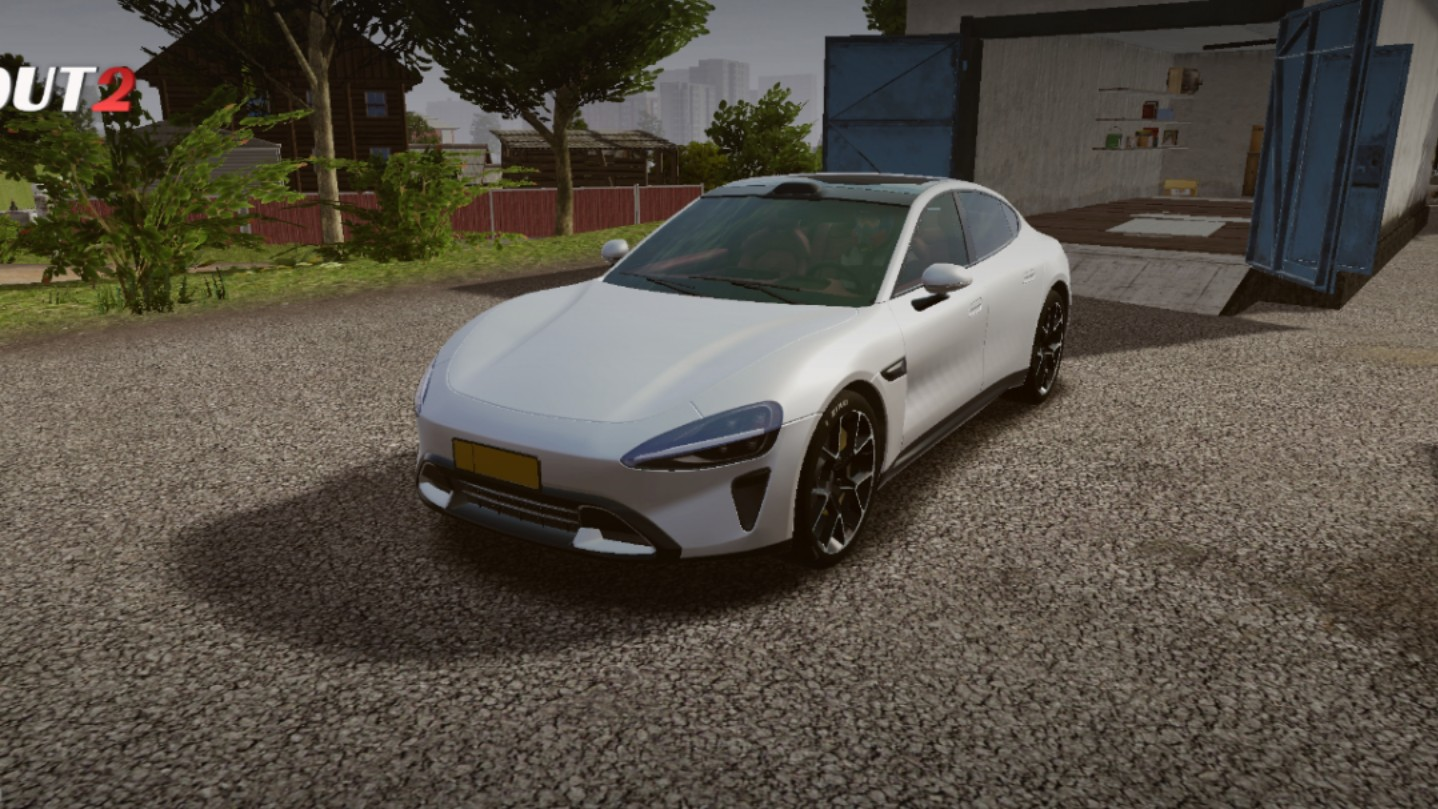su7: (434, 161, 1066, 557)
